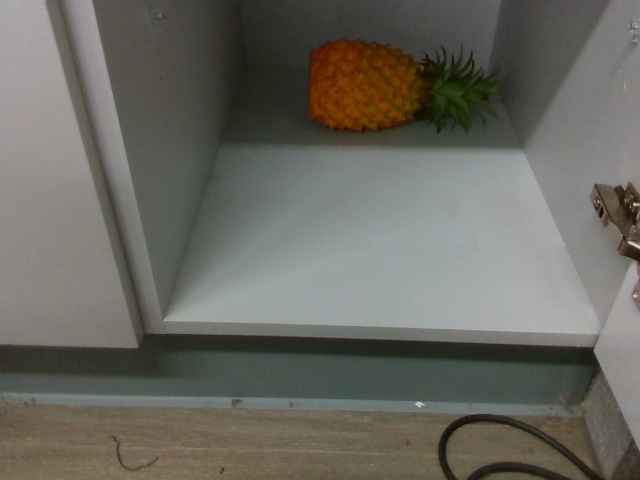pineapple: (302, 39, 501, 134)
